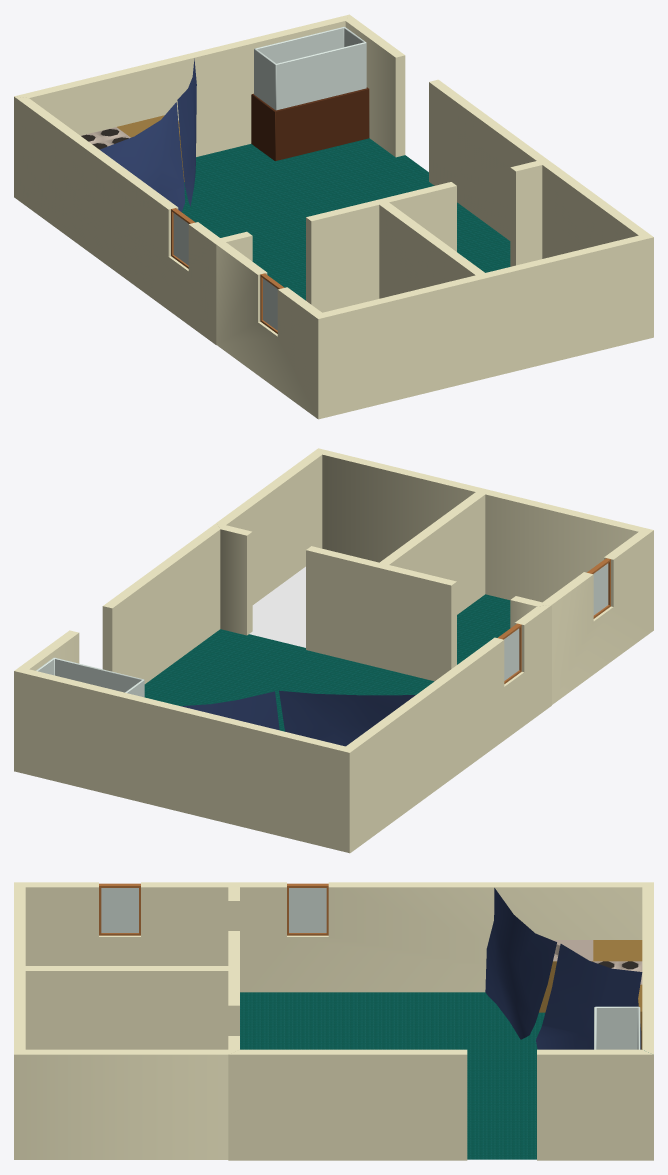
Rendered from office.fbx.
3 views of the same model, one above another, from view 1: azimuth 30°, elevation 25°; view 2: azimuth 150°, elevation 25°; view 3: azimuth 270°, elevation 25° (orthographic). The views are drawn at different scales.
Visible parts, largest first — view 1: Würfel, Würfel_1, terrrarium, Küche, herd; view 2: Würfel, Würfel_1, Küche, terrrarium; view 3: Würfel, Würfel_1, Küche, terrrarium, herd.
Boxes of the visible parts, x1,y1,x2,y2 form: Würfel: (14, 14, 653, 419); Würfel_1: (182, 138, 510, 300); terrrarium: (251, 26, 369, 160); Küche: (100, 58, 196, 211); herd: (81, 127, 130, 149); Würfel: (14, 448, 653, 853); Würfel_1: (144, 594, 510, 731); Küche: (180, 690, 415, 746); terrrarium: (36, 657, 144, 697); Würfel: (14, 882, 653, 1160); Würfel_1: (240, 992, 648, 1159); Küche: (485, 888, 642, 1049); terrrarium: (594, 1006, 640, 1049); herd: (593, 961, 642, 984).
Bounding box in the file's own units: 700 × 201 × 1099.
2 materials, 2 textured.
